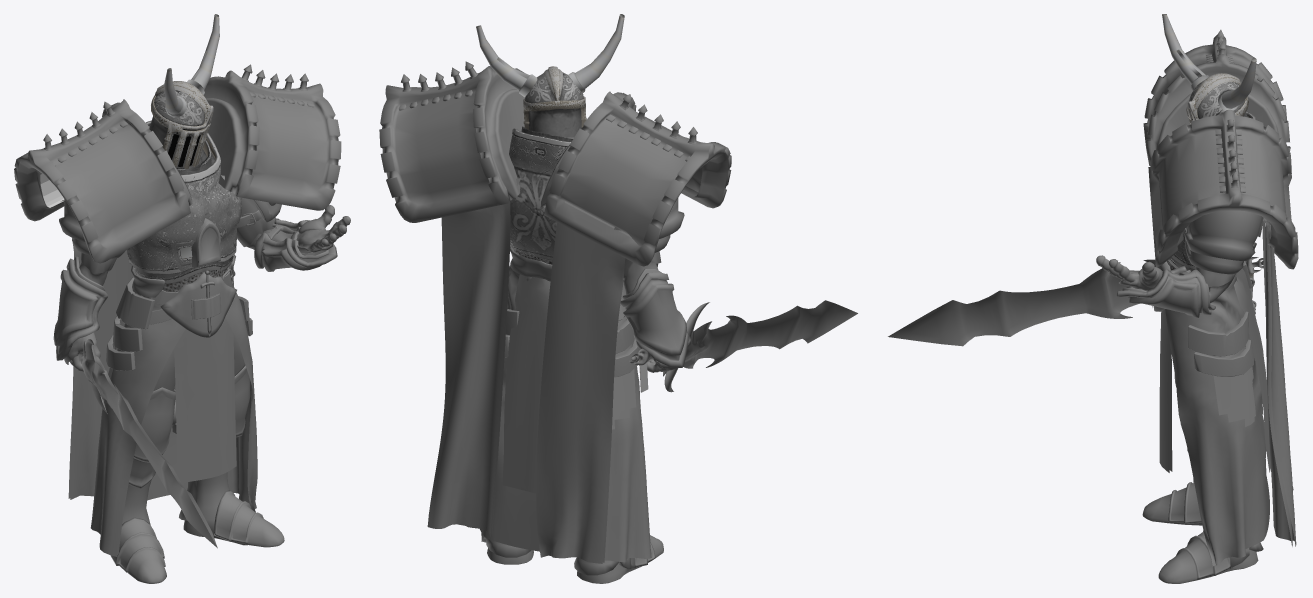
File: trick_BigBoss01.fbx
The picture shows the model from 3 angles, left to right: view 1: azimuth 30°, elevation 25°; view 2: azimuth 150°, elevation 25°; view 3: azimuth 270°, elevation 25°; orthographic projection. The views are drawn at different scales.
Parts seen in each view (by area): view 1: trick_BigBoss01; view 2: trick_BigBoss01; view 3: trick_BigBoss01.
Boxes of the visible parts, left/top/right/bottom form: trick_BigBoss01: left=14, top=14, right=350, bottom=583; trick_BigBoss01: left=379, top=14, right=857, bottom=583; trick_BigBoss01: left=888, top=14, right=1298, bottom=583.
Bounding box in the file's own units: 88.14 × 142 × 103.
